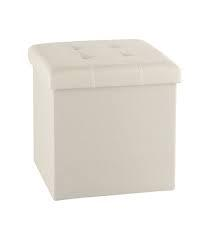cube: (28, 39, 180, 200)
